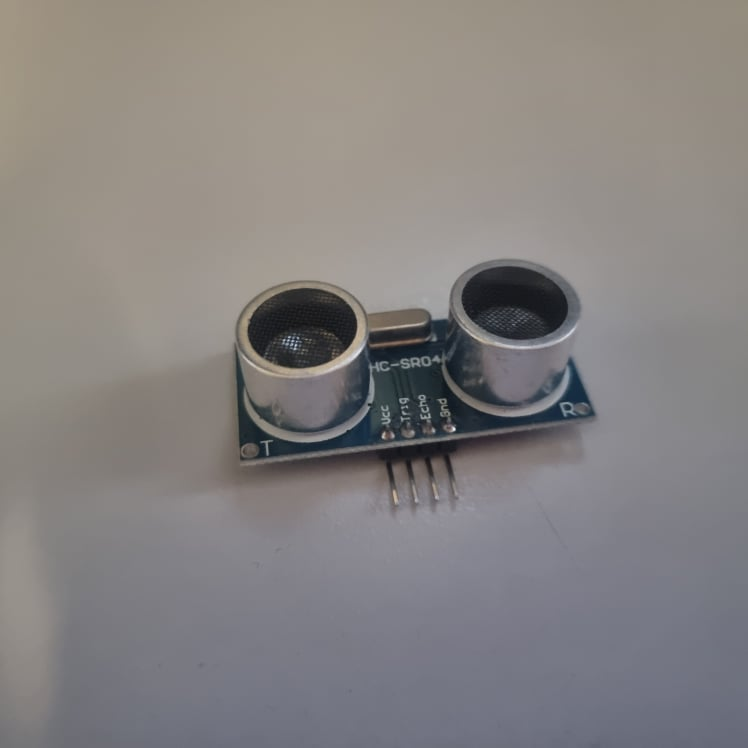SENSOR: (235, 259, 602, 503)
